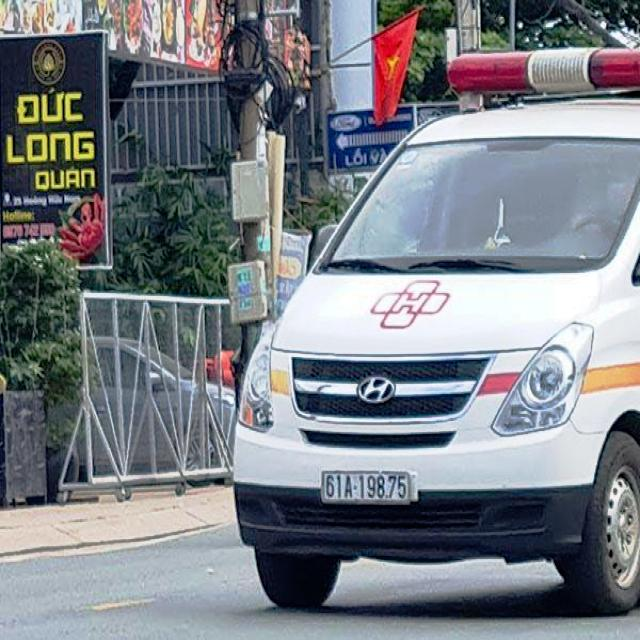license_plate: (324, 472, 410, 504)
